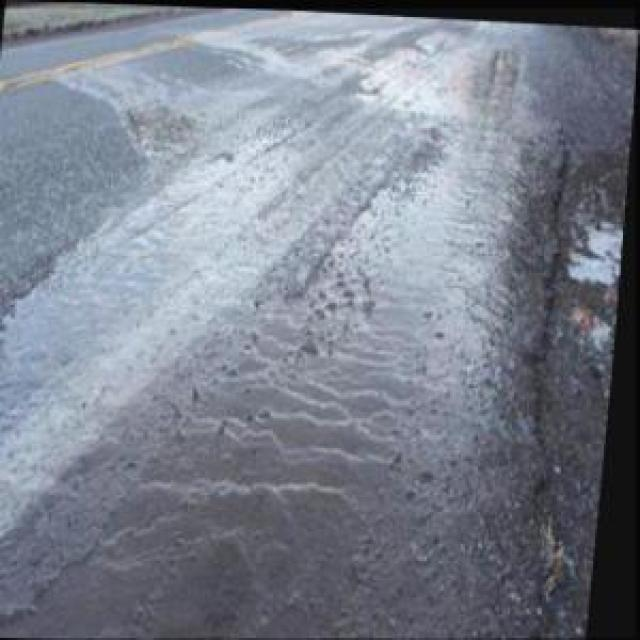ice-road: (0, 9, 636, 640)
